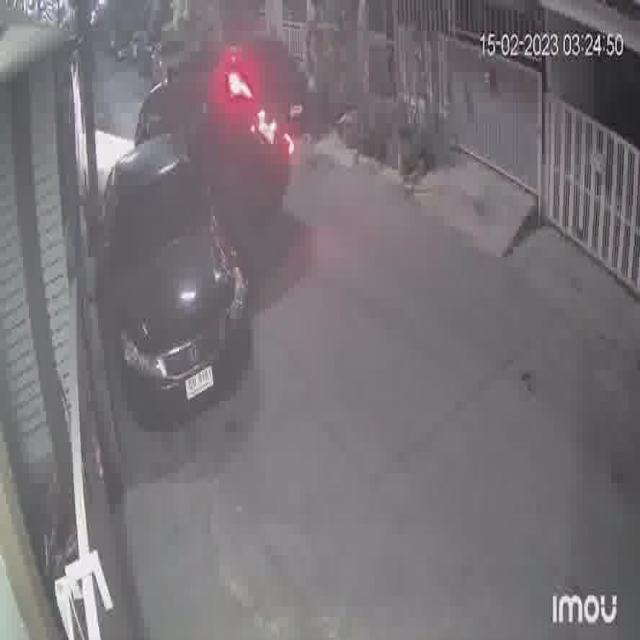multiple_accident: (92, 46, 300, 446)
